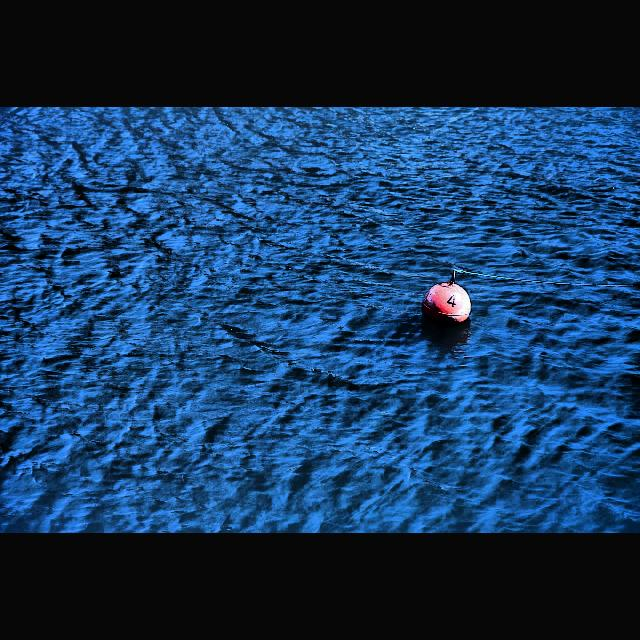buoy: (421, 267, 474, 333)
